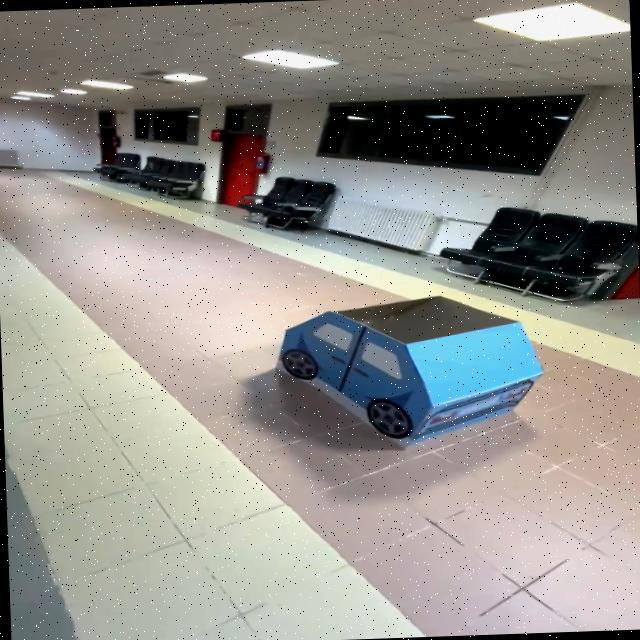blue_car: (248, 277, 571, 470)
